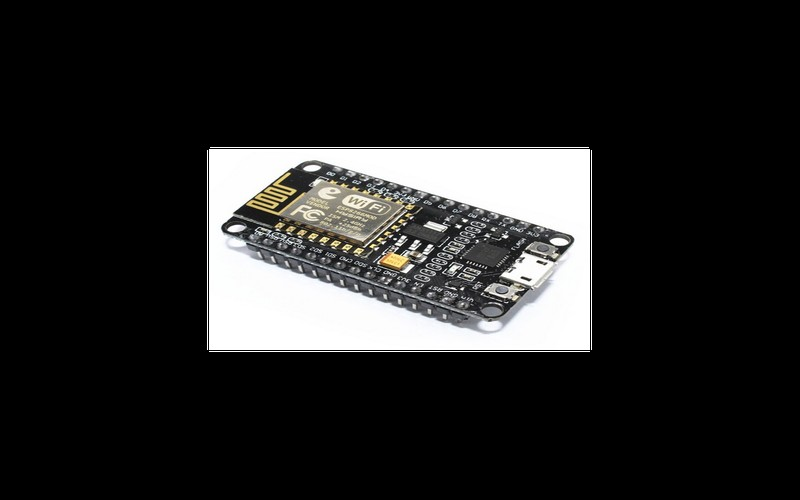IoT Sensor: (208, 148, 589, 351)
